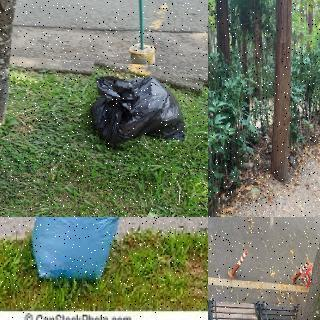Garbage: (83, 66, 201, 156), (24, 217, 138, 292)
